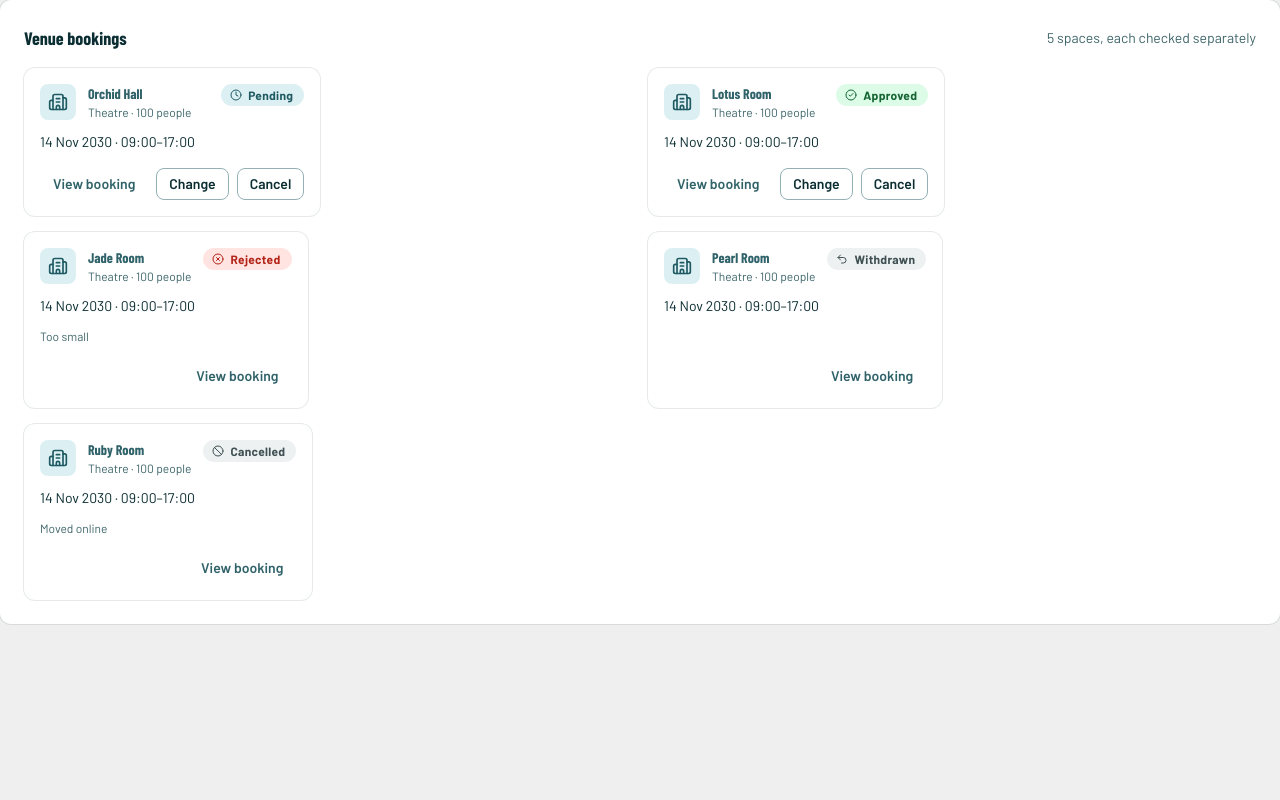
SCRUM-102/AC1, AC2 changing and cancelling from the event's list (102-S25, 102-S26) › 102-S29 the cancel confirmation for a venue booking lists only its own equipment that is still needed
Click the button with aria-label "Cancel the Orchid Hall venue booking" at (270, 184), box x1=237 y1=168 x2=304 y2=200
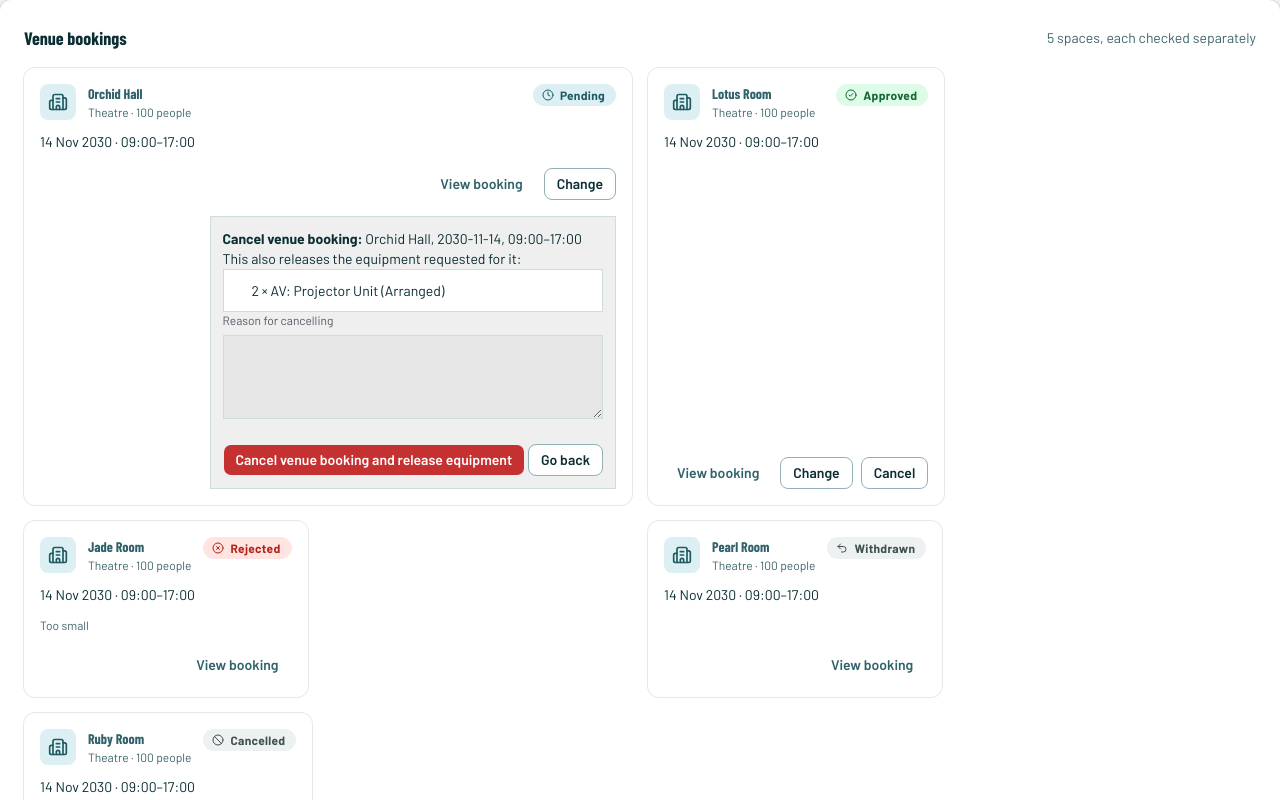
Now the list item "2 × AV: Projector Unit (Arranged)" is shown, box x1=252 y1=282 x2=444 y2=299
